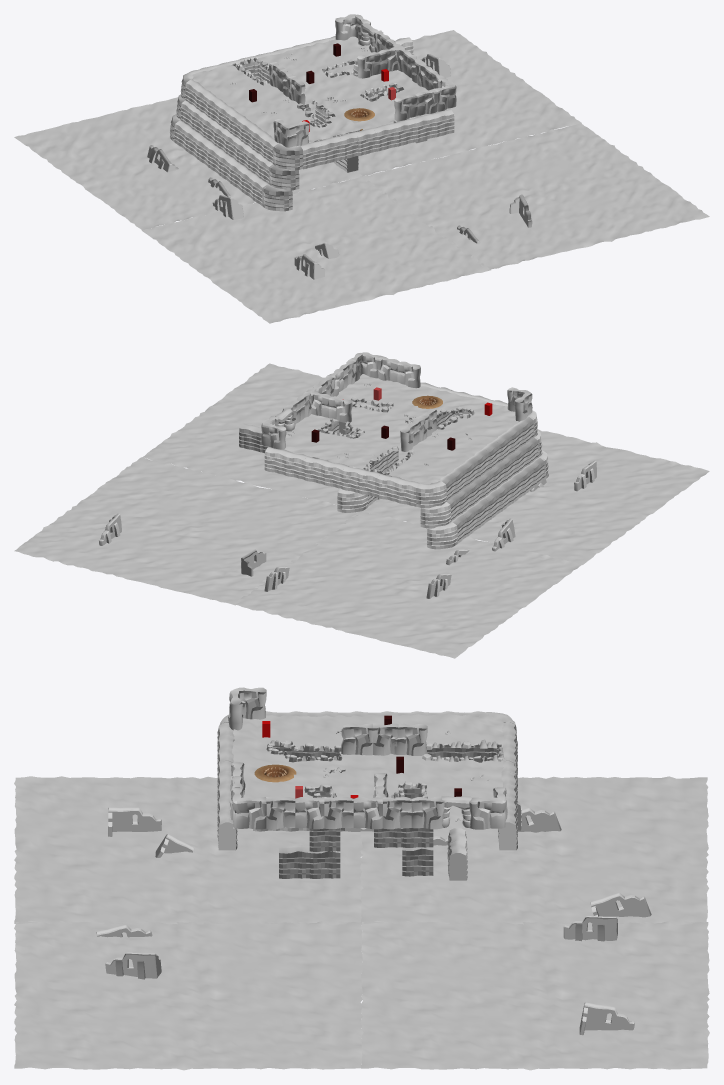
The model's file is Level1_Room3.fbx.
3 views of the same model, one above another, from view 1: azimuth 30°, elevation 25°; view 2: azimuth 150°, elevation 25°; view 3: azimuth 270°, elevation 25° (orthographic). The views are drawn at different scales.
Visible parts, largest first — view 1: Plane077, level1_corner01, suelo, Wall_L002, ruined_wall006, Stone1; view 2: Plane077, level1_corner01, suelo, Wall_L002, ruined_wall006, Stone1, level1_wall037; view 3: Plane077, suelo, Wall_L002, level1_corner01, ruined_wall006, Stone1, level1_wall037, Arc, Base.
Part boxes in pixels (x1,y1,x2,y2): Plane077: [14, 30, 709, 323]; level1_corner01: [170, 36, 454, 211]; suelo: [188, 36, 455, 141]; Wall_L002: [269, 14, 456, 147]; ruined_wall006: [147, 54, 532, 279]; Stone1: [230, 47, 403, 127]; Plane077: [14, 363, 709, 658]; level1_corner01: [264, 382, 548, 549]; suelo: [284, 374, 519, 486]; Wall_L002: [261, 352, 532, 451]; ruined_wall006: [99, 460, 596, 598]; Stone1: [288, 383, 475, 475]; level1_wall037: [239, 423, 268, 453]; Plane077: [14, 776, 709, 1070]; suelo: [231, 712, 503, 829]; Wall_L002: [228, 687, 507, 829]; level1_corner01: [217, 711, 521, 878]; ruined_wall006: [96, 807, 651, 1035]; Stone1: [266, 730, 504, 821]; level1_wall037: [253, 828, 467, 880]; Arc: [441, 796, 471, 827]; Base: [254, 764, 296, 782].
Size of the model in its own units: 3537 by 1054 by 3559.
